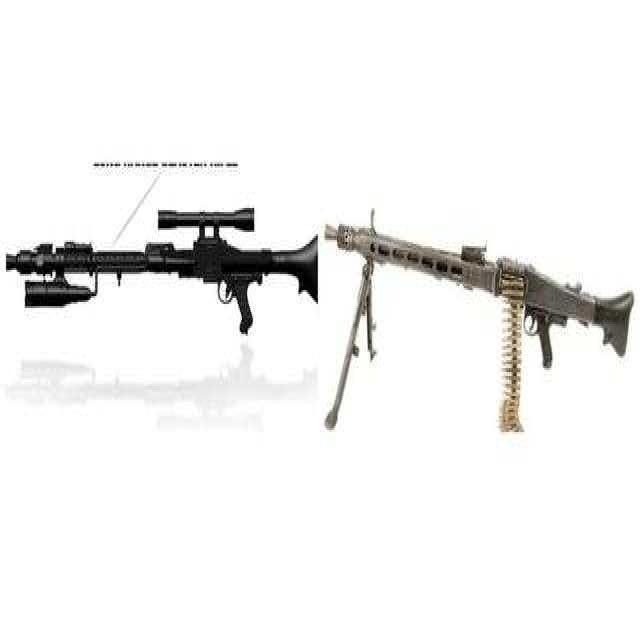weapon: (319, 180, 634, 454), (4, 166, 324, 384)
